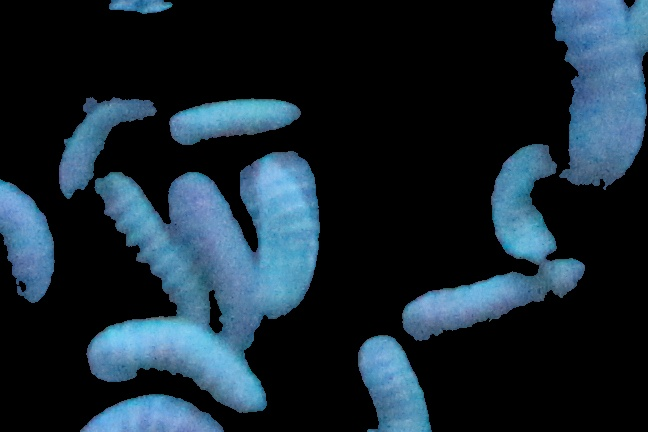larvae: (95, 171, 210, 329), (556, 1, 648, 191), (87, 317, 267, 414), (402, 252, 589, 337), (168, 170, 254, 333), (241, 153, 320, 318), (57, 97, 159, 197), (489, 145, 559, 265), (352, 331, 435, 432), (169, 97, 306, 150), (1, 180, 55, 307), (66, 393, 228, 432)
